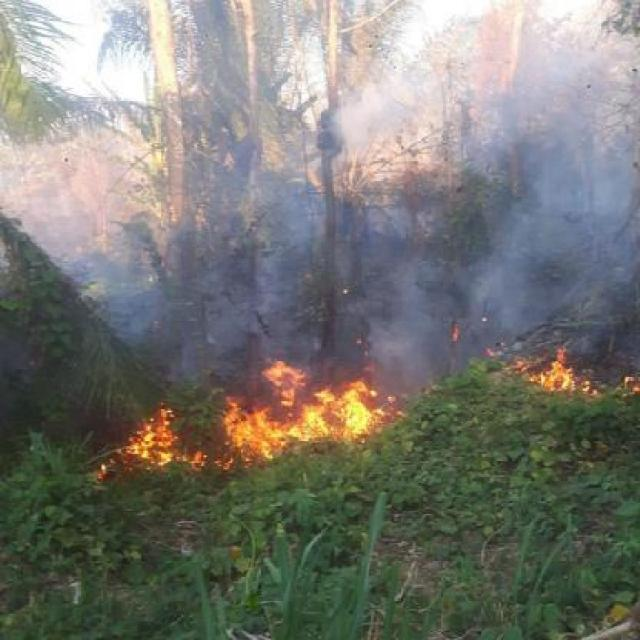Fire: (214, 354, 392, 465), (135, 408, 177, 467), (536, 342, 573, 392), (120, 443, 138, 459), (581, 379, 594, 393), (195, 452, 208, 466)
